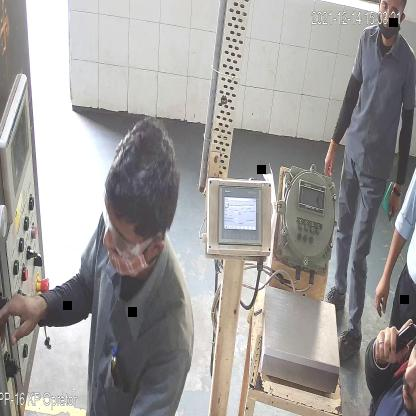no_glove: (373, 229, 406, 318), (0, 288, 47, 339), (323, 138, 339, 179)
